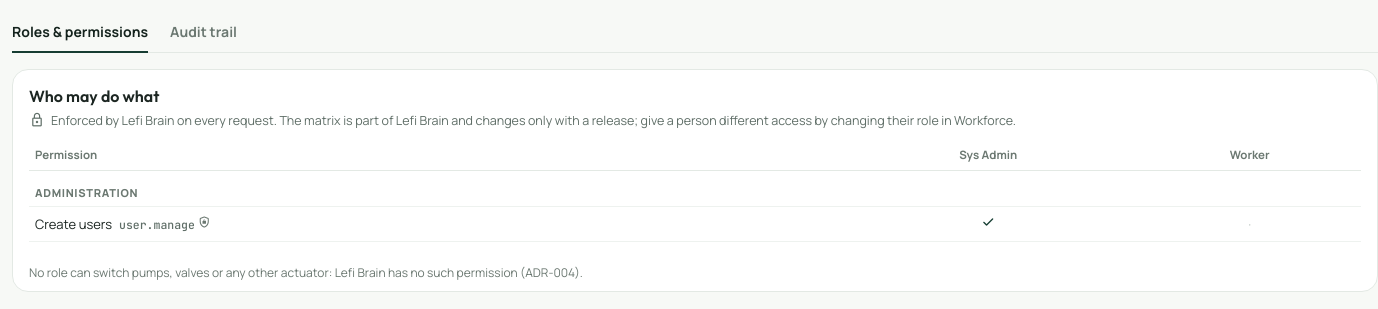
Test: Administration against the real Lefi Brain › shows the enforced matrix and the audit trail by permission
The width and height of the screenshot is (1378, 309).
Expected: the element named "System Administrator: yes" is shown, top-left (979, 217), bottom-right (997, 235)
Expected: the text named "Greenhouse Worker: no" is shown, top-left (1248, 215), bottom-right (1251, 233)
Click the tab "Audit trail".
click(204, 32)  # box top-left (170, 12), bottom-right (237, 53)
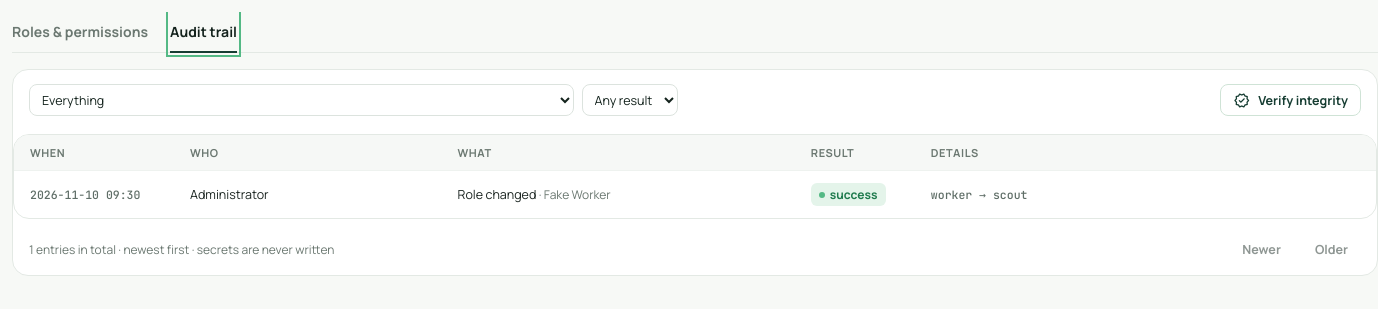
Expected: the text "Role changed · Fake Worker" is shown, top-left (458, 186), bottom-right (611, 203)
Expected: the text "worker → scout" is shown, top-left (931, 187), bottom-right (1027, 202)
